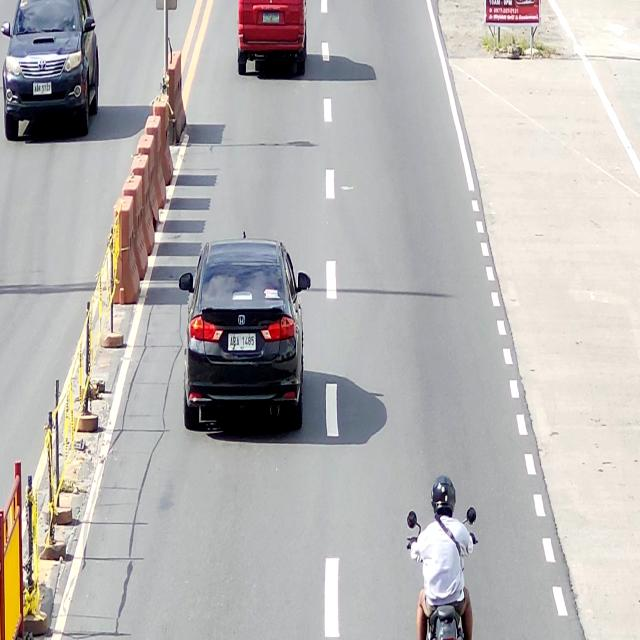Car: (178, 238, 311, 429), (0, 0, 100, 138), (237, 0, 308, 76)
License-Plate: (228, 332, 257, 350), (31, 82, 53, 94), (262, 12, 280, 24)
Motorcycle: (407, 507, 479, 640)
